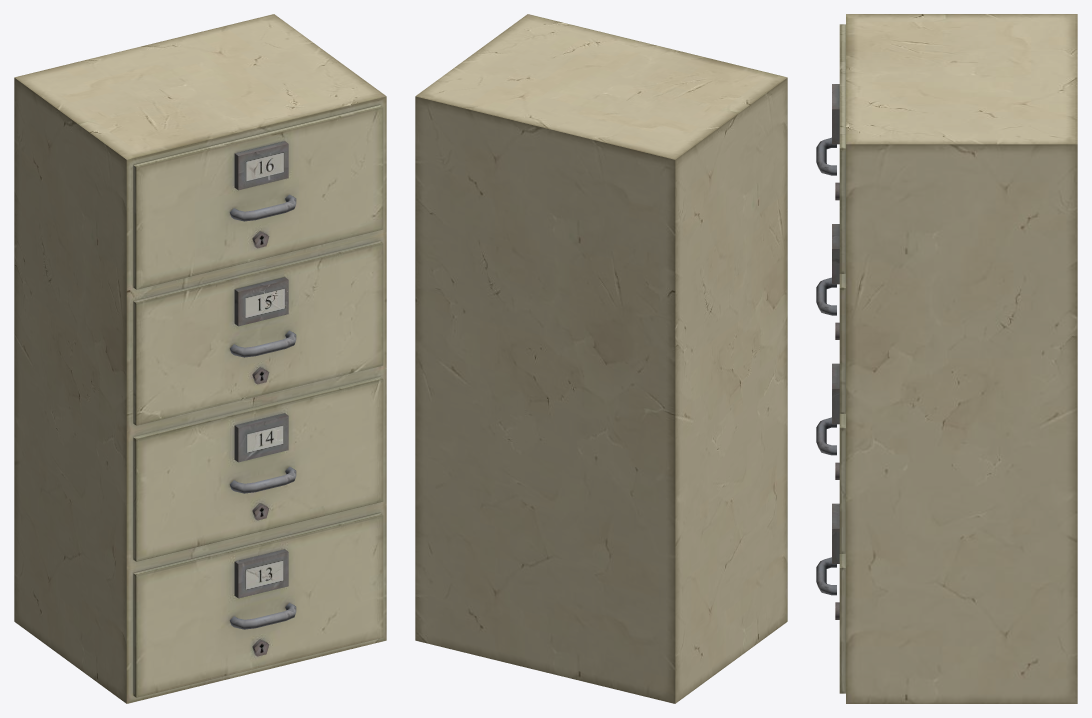
File: Locker.obj
The picture shows the model from 3 angles, left to right: view 1: azimuth 30°, elevation 25°; view 2: azimuth 150°, elevation 25°; view 3: azimuth 270°, elevation 25°; orthographic projection. The views are drawn at different scales.
Visible parts, largest first — view 1: Locker; view 2: Locker; view 3: Locker.
Boxes of the visible parts, x1,y1,x2,y2 form: Locker: (14, 14, 386, 703); Locker: (415, 14, 787, 703); Locker: (816, 14, 1077, 703).
Bounding box in the file's own units: 4 × 8 × 3.38.
